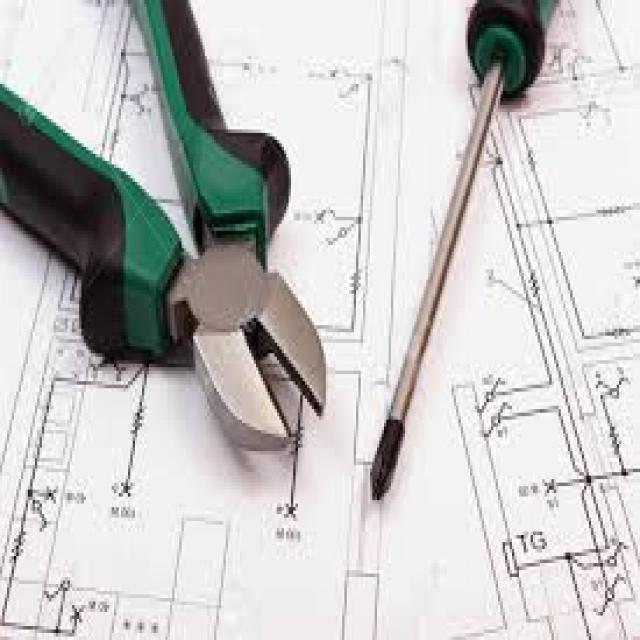screwdriver: (362, 0, 557, 504)
